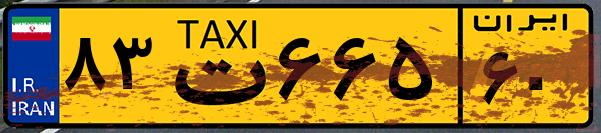0: (525, 38, 570, 115)
3: (110, 28, 158, 98)
5: (385, 28, 445, 110)
6: (270, 28, 330, 110), (330, 28, 385, 110), (475, 38, 525, 113)
8: (57, 26, 110, 100)
ت: (158, 12, 270, 120)
